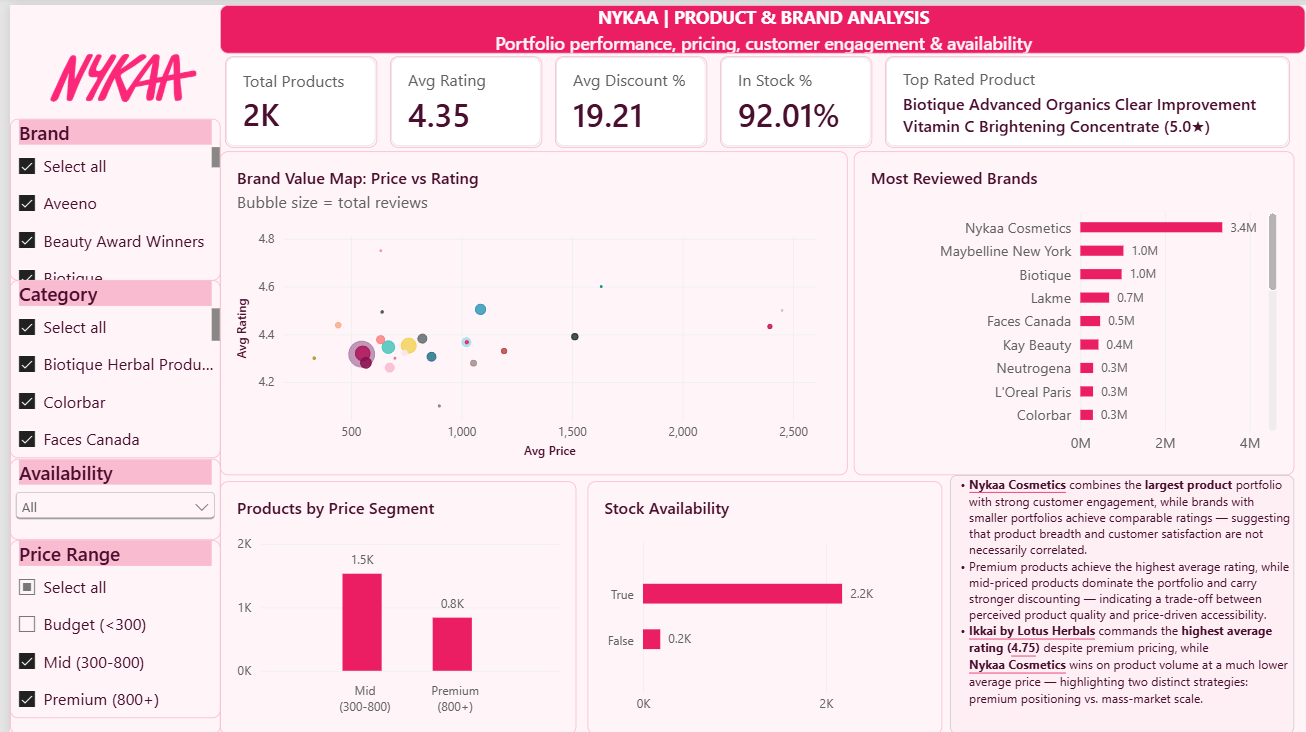

This screenshot's page, from the dashboard's own definition file:
{"tool":"powerbi","page":{"name":"Page 1","canvas":[1280,720],"ordinal":0},"visuals":[{"type":"shape","box":[0,128,208,592],"z":0},{"type":"slicer","fields":{"Values":["nykaa_cleaned.brand_name"]},"box":[0,112,208,160],"z":1000},{"type":"slicer","fields":{"Values":["nykaa_cleaned.listing_page_name"]},"box":[0,272,208,176],"z":2000},{"type":"slicer","fields":{"Values":["nykaa_cleaned.in_stock"]},"box":[0,448,208,80],"z":3000},{"type":"slicer","fields":{"Values":["nykaa_cleaned.price_band"]},"box":[0,528,208,176],"z":4000},{"type":"cardVisual","fields":{"Data":["nykaa_cleaned.Total Products"]},"box":[212,50,150,90],"z":5000},{"type":"cardVisual","fields":{"Data":["nykaa_cleaned.Avg Rating"]},"box":[375,50,150,90],"z":6000},{"type":"cardVisual","fields":{"Data":["nykaa_cleaned.Avg Discount %"]},"box":[538,50,150,90],"z":7000},{"type":"cardVisual","fields":{"Data":["nykaa_cleaned.In Stock %"]},"box":[701,50,150,90],"z":8000},{"type":"cardVisual","fields":{"Data":["nykaa_cleaned.Top Rated Product"]},"box":[864,50,400,90],"z":9000},{"type":"scatterChart","title":"Brand Value Map: Price vs Rating","fields":{"Series":["nykaa_cleaned.brand_name"],"Size":["nykaa_cleaned.Total Reviews"],"X":["nykaa_cleaned.Avg Price"],"Y":["nykaa_cleaned.Avg Rating"]},"box":[208,144,620,320],"z":10000},{"type":"clusteredBarChart","title":"Most Reviewed Brands","fields":{"Category":["nykaa_cleaned.brand_name"],"Y":["nykaa_cleaned.Total Reviews"]},"box":[833,144,435,320],"z":11000},{"type":"clusteredColumnChart","title":"Products by Price Segment","fields":{"Category":["nykaa_cleaned.price_band"],"Y":["CountNonNull(nykaa_cleaned.product_id)"]},"box":[208,470,352,250],"z":12000},{"type":"clusteredBarChart","title":"Stock Availability","fields":{"Category":["nykaa_cleaned.in_stock"],"Y":["CountNonNull(nykaa_cleaned.product_id)"]},"box":[570,470,350,250],"z":13000},{"type":"textbox","box":[928,464,340,256],"z":14000},{"type":"textbox","title":"NYKAA | PRODUCT & BRAND ANALYSIS","box":[208,0,1072,48],"z":15000},{"type":"image","box":[0,0,224,144],"z":16000}]}

Visuals, with their boxes in screenshot pixels (x1, y1, x2, y2), scaled from the page's 1280x720 canvas onto the 1306x732 screenshot:
shape: detection(0, 130, 212, 731)
slicer - nykaa_cleaned.brand_name: detection(0, 114, 212, 277)
slicer - nykaa_cleaned.listing_page_name: detection(0, 277, 212, 455)
slicer - nykaa_cleaned.in_stock: detection(0, 455, 212, 537)
slicer - nykaa_cleaned.price_band: detection(0, 537, 212, 716)
cardVisual - nykaa_cleaned.Total Products: detection(216, 51, 369, 142)
cardVisual - nykaa_cleaned.Avg Rating: detection(383, 51, 536, 142)
cardVisual - nykaa_cleaned.Avg Discount %: detection(549, 51, 702, 142)
cardVisual - nykaa_cleaned.In Stock %: detection(715, 51, 868, 142)
cardVisual - nykaa_cleaned.Top Rated Product: detection(882, 51, 1290, 142)
"Brand Value Map: Price vs Rating" scatterChart: detection(212, 146, 845, 472)
"Most Reviewed Brands" clusteredBarChart: detection(850, 146, 1294, 472)
"Products by Price Segment" clusteredColumnChart: detection(212, 478, 571, 731)
"Stock Availability" clusteredBarChart: detection(582, 478, 939, 731)
textbox: detection(947, 472, 1294, 731)
"NYKAA | PRODUCT & BRAND ANALYSIS" textbox: detection(212, 0, 1305, 49)
image: detection(0, 0, 229, 146)
